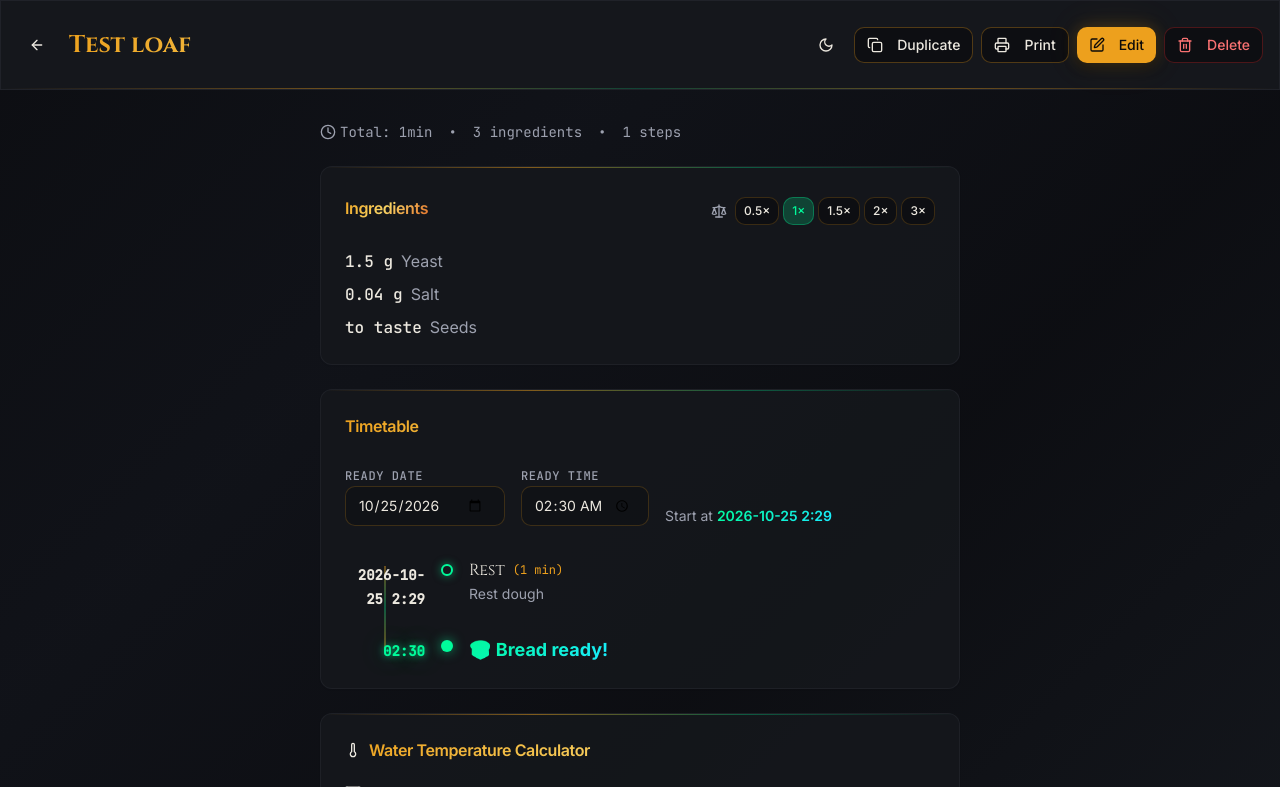
Test: detail scheduling › uses the selected local calendar date and subtracts the step duration
In the date field: (425, 506) [345, 486, 505, 526], type "2026-10-24"
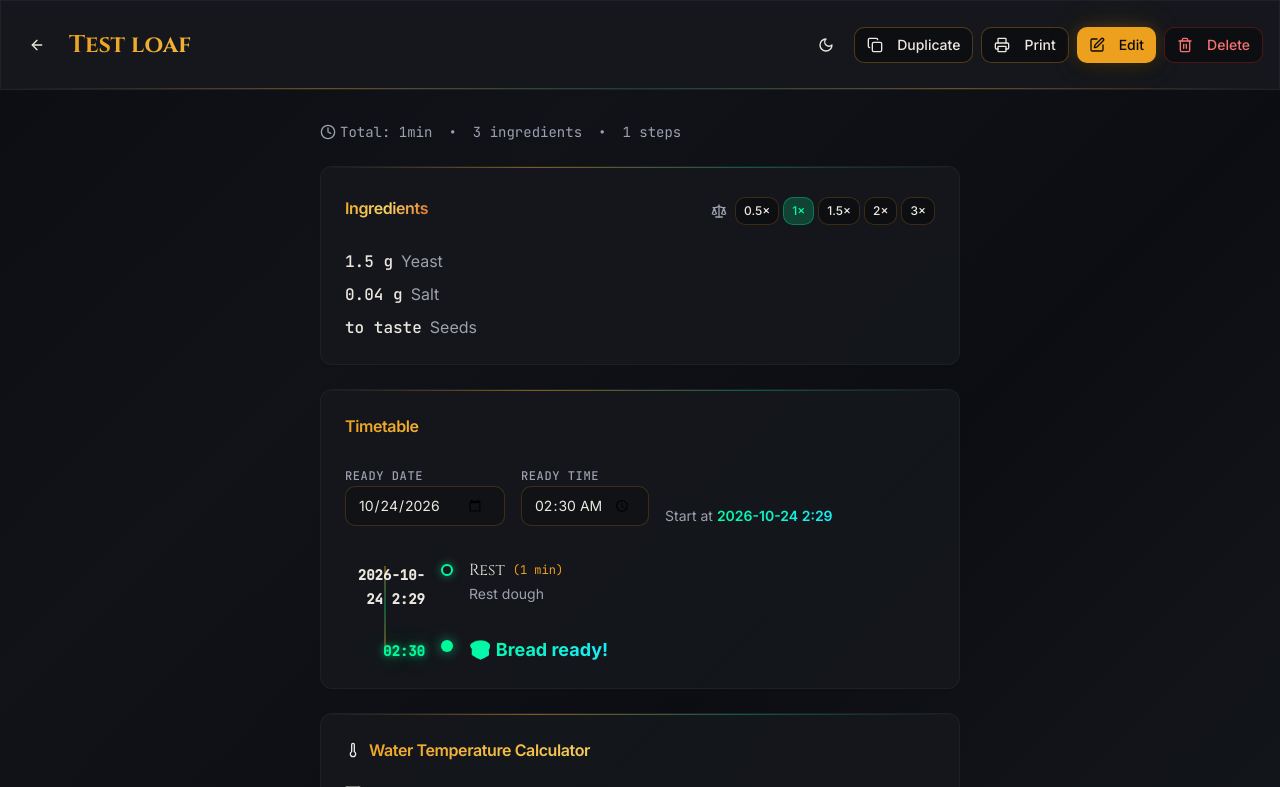
Replace the text in the time field with "12:00": (585, 506) [521, 486, 649, 526]
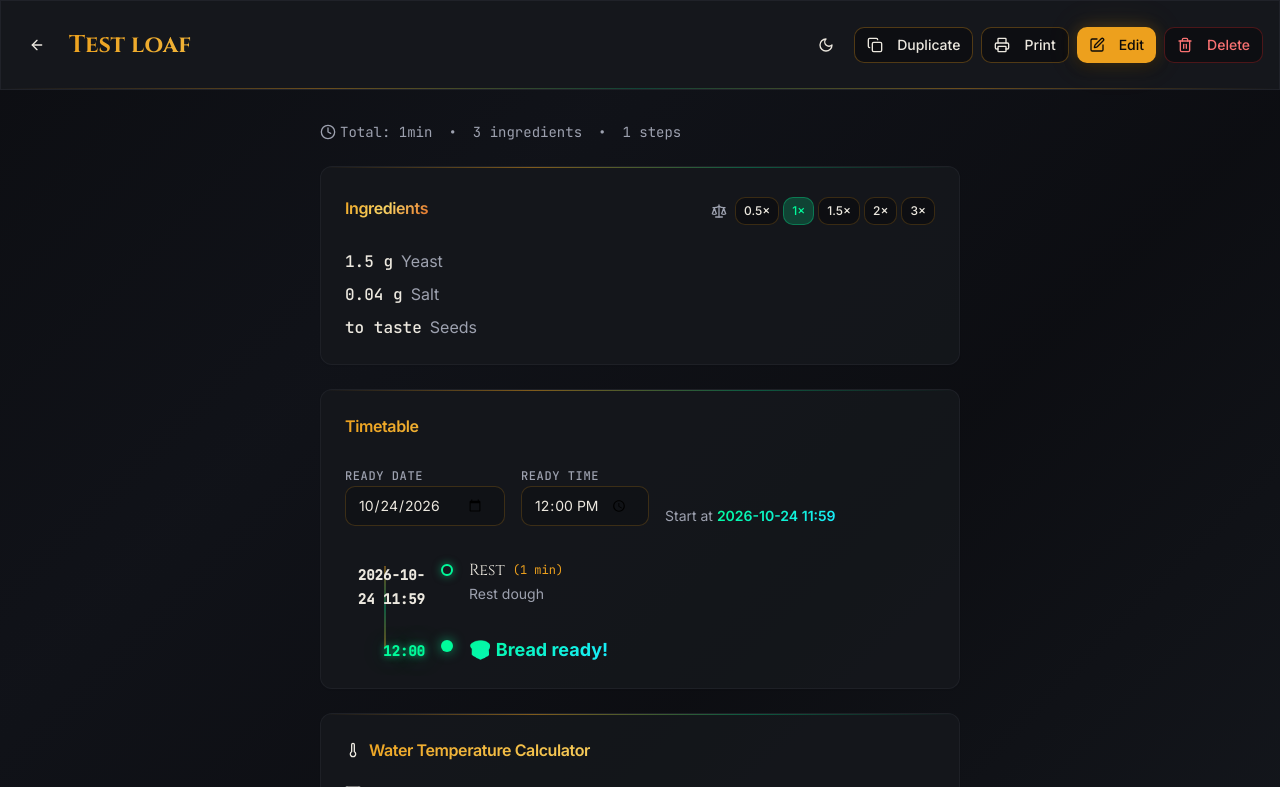
Expected: the text "2026-10-24 11:59" next to "Start at" is shown, [717, 507, 836, 524]
